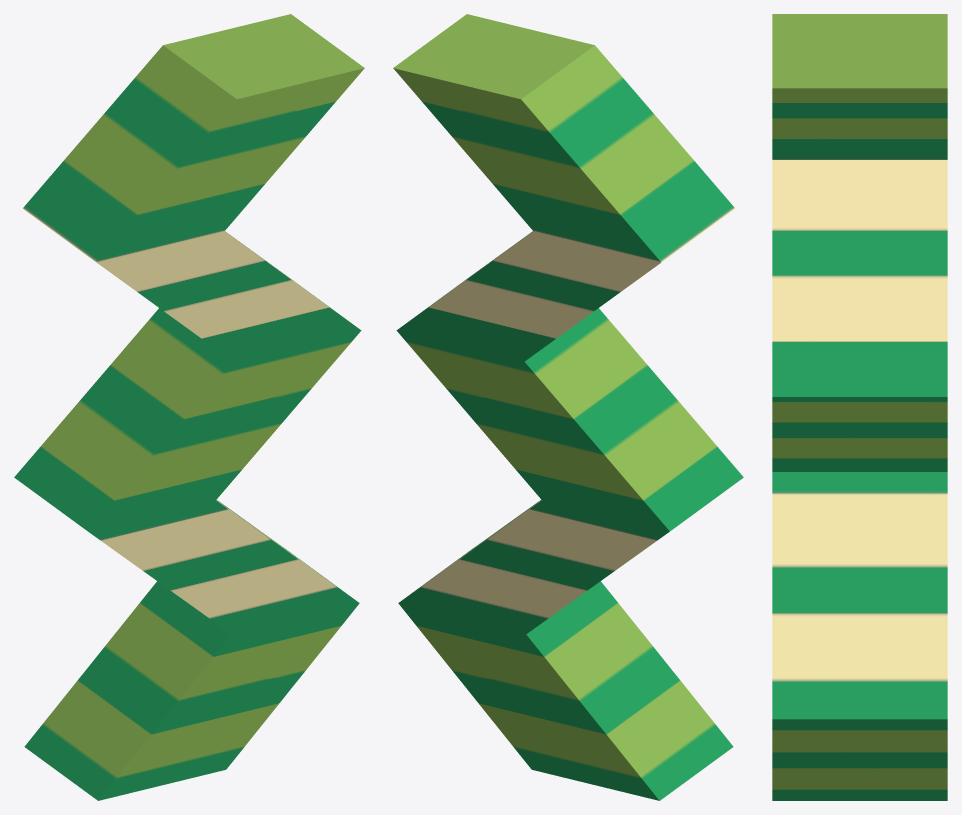
Rendered from M_zigzag.fbx.
3 views of the same model, side by side, from view 1: azimuth 30°, elevation 25°; view 2: azimuth 150°, elevation 25°; view 3: azimuth 270°, elevation 25° (orthographic). The views are drawn at different scales.
Parts seen in each view (by area): view 1: Cube.013; view 2: Cube.013; view 3: Cube.013.
Part boxes in pixels (bbox=[...]): Cube.013: bbox=[14, 14, 364, 800]; Cube.013: bbox=[393, 14, 743, 800]; Cube.013: bbox=[772, 14, 947, 800].
Bounding box in the file's own units: 201 × 462 × 92.75.
